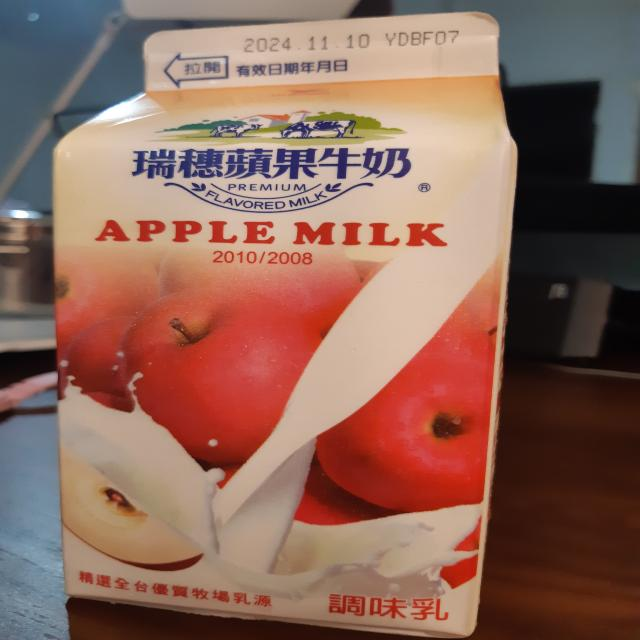RuiSui_AppleMilk: (49, 6, 523, 640)
